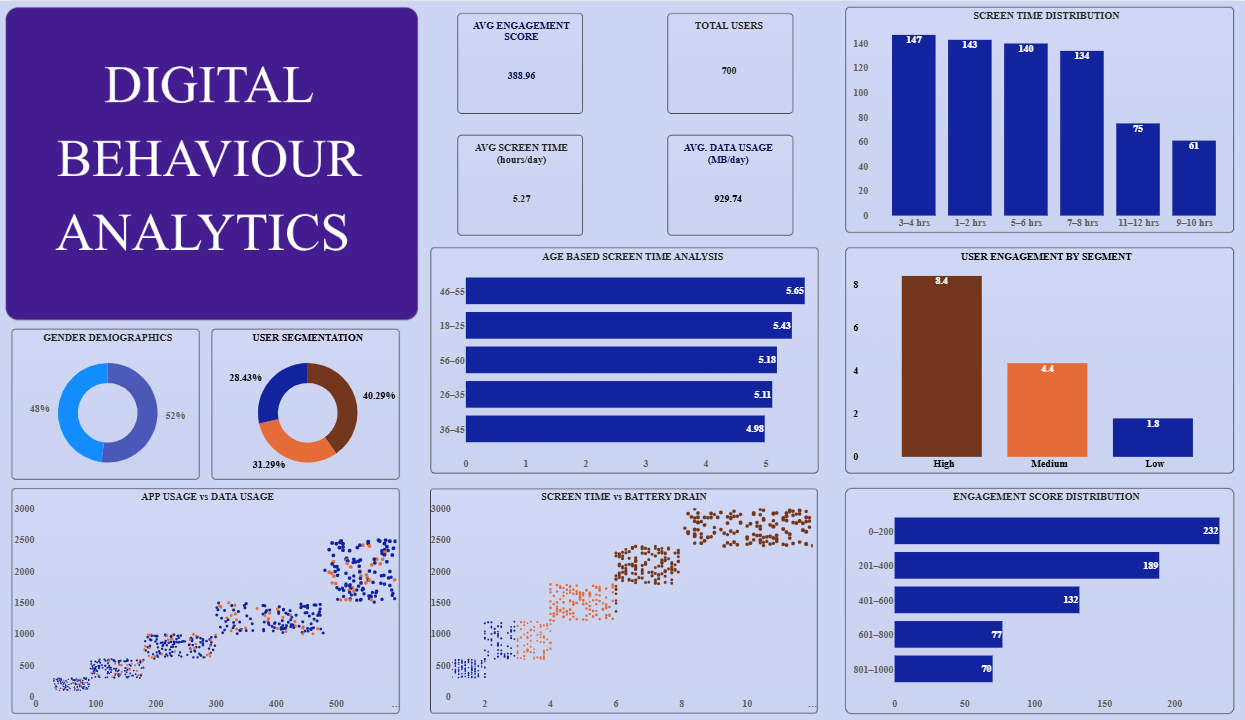

The page's visual inventory and layout, read from the dashboard file:
{"tool":"powerbi","page":{"name":"User Behaviour Overview","canvas":[9999,5800],"ordinal":0},"visuals":[{"type":"card","title":"AVG SCREEN TIME (hours/day)","fields":{"Values":["Avg(cleaned_user_behavior.Screen_On_Time_(hours/day))"]},"box":[3680,1130,1000,700],"z":0},{"type":"card","title":"AVG ENGAGEMENT SCORE","fields":{"Values":["Avg(cleaned_user_behavior.Engagement_Score)"]},"box":[3680,150,1000,700],"z":1000},{"type":"columnChart","title":"SCREEN TIME DISTRIBUTION","fields":{"Y":["Count(cleaned_user_behavior.User_ID)"],"Category":["cleaned_user_behavior.Screen_Time_Group"]},"box":[6830,70,3100,1750],"z":2000},{"type":"barChart","title":"ENGAGEMENT SCORE DISTRIBUTION","fields":{"Category":["cleaned_user_behavior.Engagement_Group"],"Y":["Count(cleaned_user_behavior.User_ID)"]},"box":[6830,3920,3100,1750],"z":3000},{"type":"donutChart","title":"USER SEGMENTATION","fields":{"Category":["cleaned_user_behavior.User_Type"],"Y":["CountNonNull(cleaned_user_behavior.User_ID)"]},"box":[1720,2650,1500,1200],"z":4000},{"type":"donutChart","title":"GENDER DEMOGRAPHICS ","fields":{"Category":["cleaned_user_behavior.Gender"],"Y":["CountNonNull(cleaned_user_behavior.User_ID)"]},"box":[120,2650,1500,1200],"z":5000},{"type":"scatterChart","title":"SCREEN TIME vs BATTERY DRAIN","fields":{"X":["cleaned_user_behavior.Screen_On_Time_(hours/day)"],"Y":["cleaned_user_behavior.Battery_Drain_(mAh/day)"],"Series":["cleaned_user_behavior.User_Type"],"Size":["Avg(cleaned_user_behavior.Engagement_Score)"]},"box":[3450,3920,3100,1750],"z":6000},{"type":"scatterChart","title":"APP USAGE vs DATA USAGE","fields":{"Size":["Avg(cleaned_user_behavior.Engagement_Score)"],"X":["cleaned_user_behavior.App_Usage_Time_(min/day)"],"Y":["cleaned_user_behavior.Data_Usage_(MB/day)"],"Series":["cleaned_user_behavior.Operating_System"]},"box":[120,3920,3100,1750],"z":7000},{"type":"columnChart","title":"USER ENGAGEMENT BY SEGMENT","fields":{"Category":["cleaned_user_behavior.User_Type"],"Y":["Avg(cleaned_user_behavior.Screen_On_Time_(hours/day))"]},"box":[6830,2000,3100,1750],"z":8000},{"type":"card","title":"TOTAL USERS","fields":{"Values":["Count(cleaned_user_behavior.User_ID)"]},"box":[5340,150,1000,700],"z":9000},{"type":"card","title":"AVG. DATA USAGE (MB/day)","fields":{"Values":["Avg(cleaned_user_behavior.Data_Usage_(MB/day))"]},"box":[5300,1130,1070,700],"z":10000},{"type":"barChart","title":"AGE BASED SCREEN TIME ANALYSIS","fields":{"Category":["cleaned_user_behavior.Age_Group"],"Y":["Avg(cleaned_user_behavior.Screen_On_Time_(hours/day))"]},"box":[3520,2000,3100,1750],"z":11000}]}

Visuals, with their boxes in screenshot pixels (x1, y1, x2, y2), scaled from the page's 9999x5800 canvas onto the 1245x720 screenshot:
"AVG SCREEN TIME (hours/day)" card: x1=458, y1=140, x2=583, y2=227
"AVG ENGAGEMENT SCORE" card: x1=458, y1=19, x2=583, y2=106
"SCREEN TIME DISTRIBUTION" columnChart: x1=850, y1=9, x2=1236, y2=226
"ENGAGEMENT SCORE DISTRIBUTION" barChart: x1=850, y1=487, x2=1236, y2=704
"USER SEGMENTATION" donutChart: x1=214, y1=329, x2=401, y2=478
"GENDER DEMOGRAPHICS " donutChart: x1=15, y1=329, x2=202, y2=478
"SCREEN TIME vs BATTERY DRAIN" scatterChart: x1=430, y1=487, x2=816, y2=704
"APP USAGE vs DATA USAGE" scatterChart: x1=15, y1=487, x2=401, y2=704
"USER ENGAGEMENT BY SEGMENT" columnChart: x1=850, y1=248, x2=1236, y2=466
"TOTAL USERS" card: x1=665, y1=19, x2=789, y2=106
"AVG. DATA USAGE (MB/day)" card: x1=660, y1=140, x2=793, y2=227
"AGE BASED SCREEN TIME ANALYSIS" barChart: x1=438, y1=248, x2=824, y2=466
